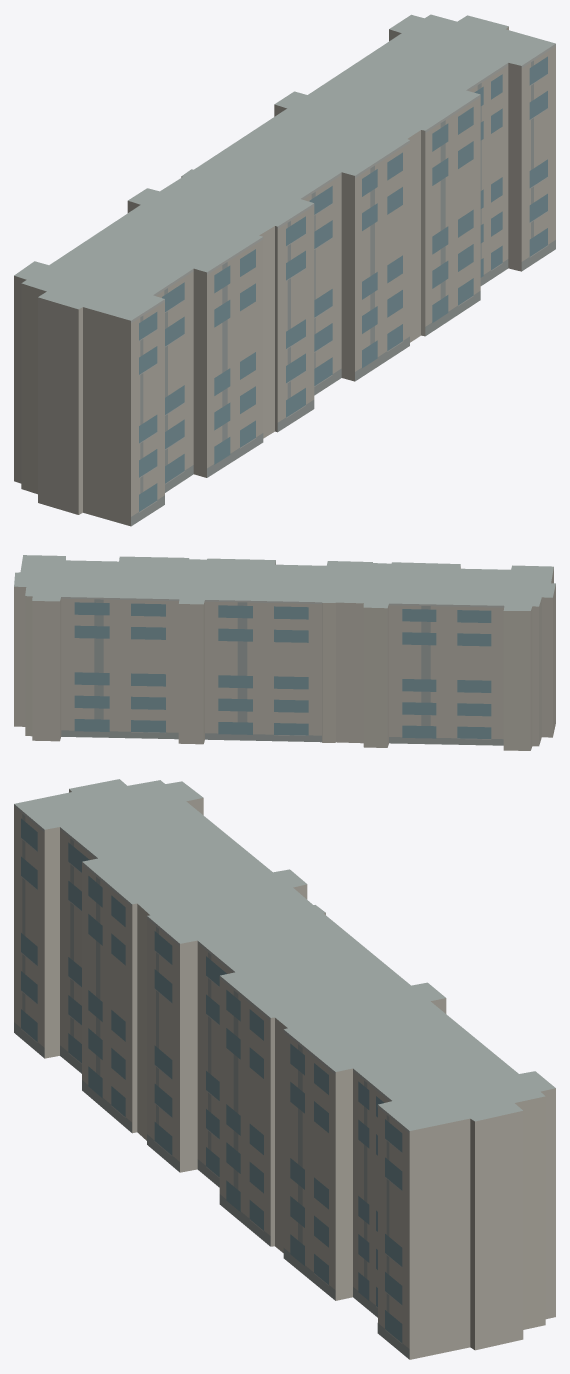
The model's file is survey-upis-32834936.glb.
3 views of the same model, one above another, from view 1: azimuth 30°, elevation 25°; view 2: azimuth 150°, elevation 25°; view 3: azimuth 270°, elevation 25° (orthographic). The views are drawn at different scales.
Parts seen in each view (by area): view 1: survey-upis-32834936.tmp; view 2: survey-upis-32834936.tmp; view 3: survey-upis-32834936.tmp.
Part boxes in pixels (x1,y1,x2,y2): survey-upis-32834936.tmp: (14,14,555,526); survey-upis-32834936.tmp: (14,555,555,750); survey-upis-32834936.tmp: (14,779,555,1359).
Size of the model in its own units: 65 by 19.7 by 42.29.
